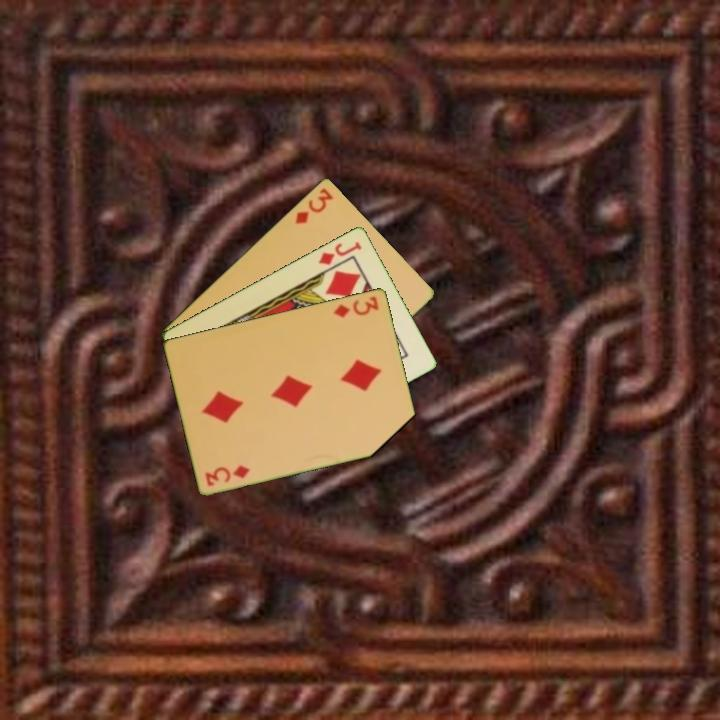3d: (291, 184, 336, 227), (330, 292, 382, 321), (202, 461, 253, 489)
Jd: (315, 237, 364, 268)
